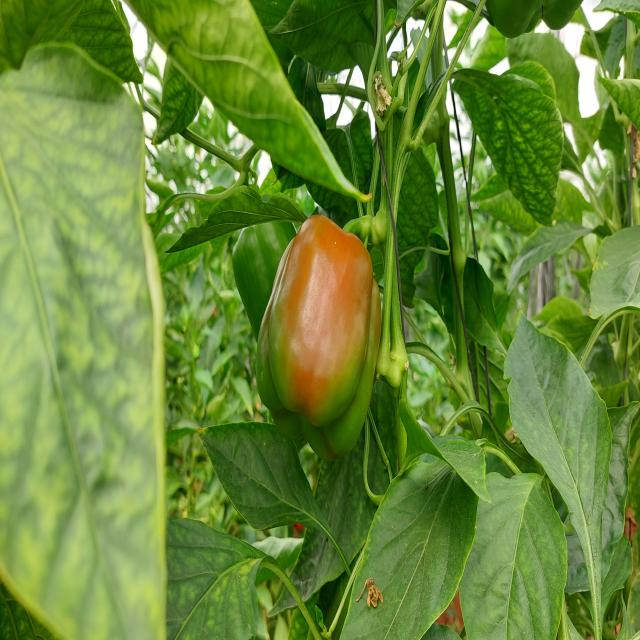BrownishRed--Can-be-Harvested: (254, 216, 384, 468)
